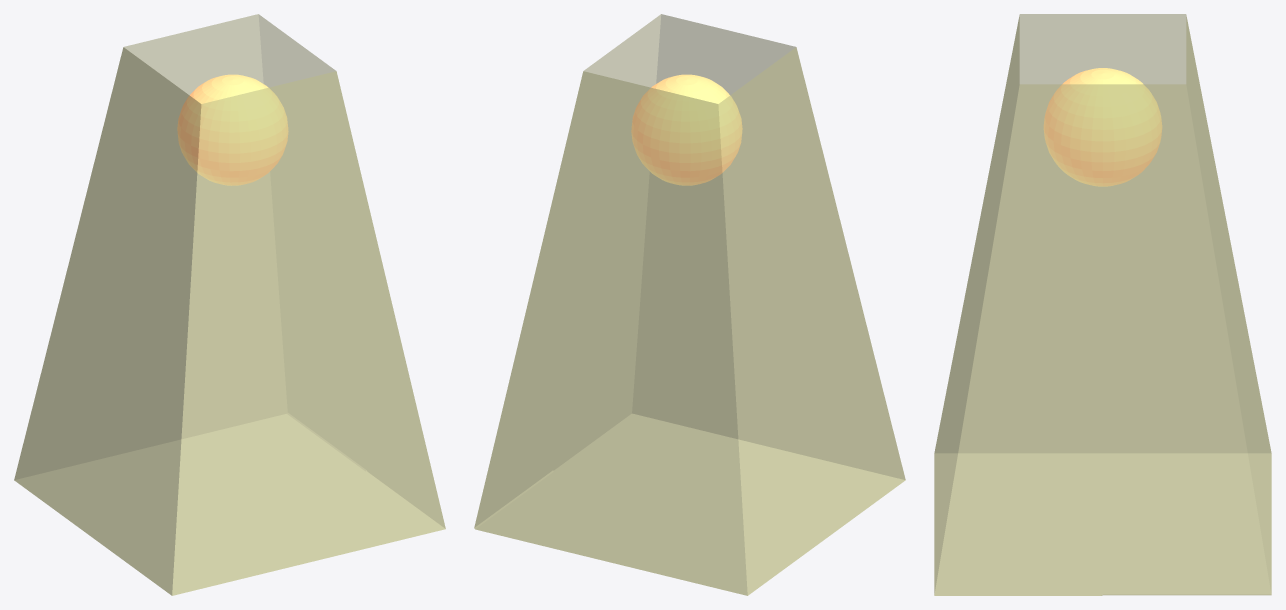
The model's file is PD灯ろう1.glb.
3 renders of one model, left to right at view 1: azimuth 30°, elevation 25°; view 2: azimuth 150°, elevation 25°; view 3: azimuth 270°, elevation 25°, orthographic. The views are drawn at different scales.
Parts seen in each view (by area): view 1: Cube, 球; view 2: Cube, 球; view 3: Cube, 球.
Boxes of the visible parts, <box> form: Cube: <box>14,14,445,595</box>; 球: <box>177,74,288,185</box>; Cube: <box>474,14,905,595</box>; 球: <box>631,74,742,185</box>; Cube: <box>934,14,1271,595</box>; 球: <box>1043,68,1162,186</box>.
Bounding box in the file's own units: 3.5 × 5.44 × 3.5.
